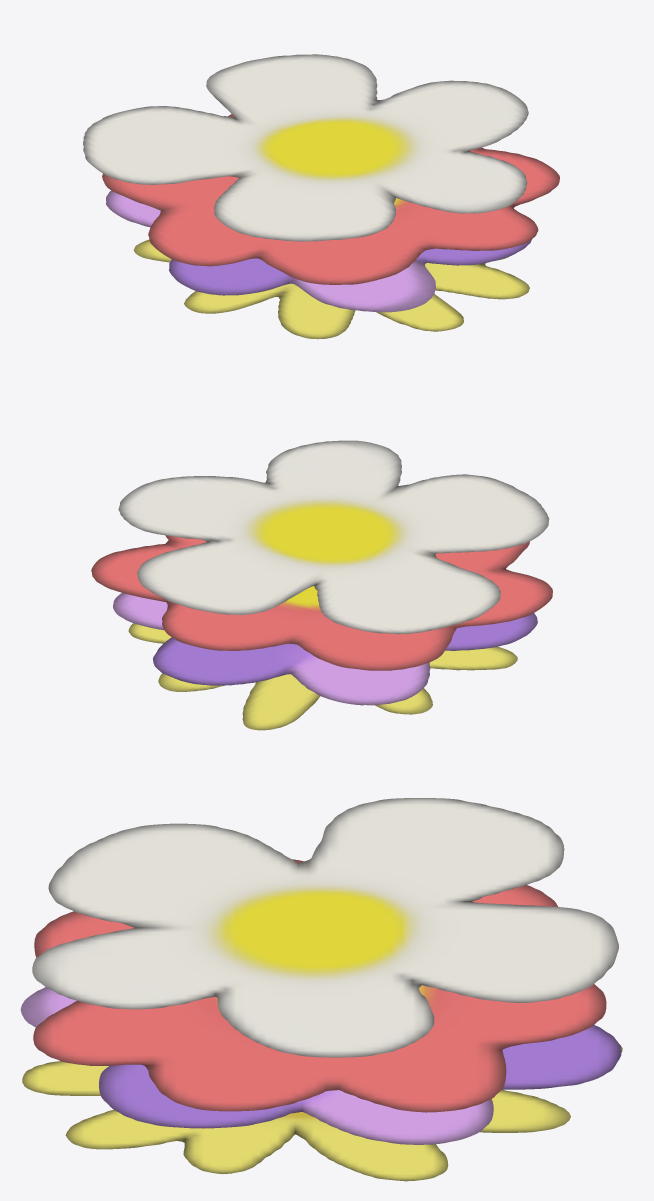
Rendered from flowers.fbx.
The picture shows the model from 3 angles, top to bottom: view 1: azimuth 30°, elevation 25°; view 2: azimuth 150°, elevation 25°; view 3: azimuth 270°, elevation 25°; orthographic projection. The views are drawn at different scales.
Visible parts, largest first — view 1: Flower1, Flower2, Flower3, Flower4; view 2: Flower1, Flower2, Flower3, Flower4; view 3: Flower1, Flower2, Flower3, Flower4.
Boxes of the visible parts, <box> form: Flower1: <box>83,54,528,241</box>; Flower2: <box>102,114,559,284</box>; Flower3: <box>106,190,531,312</box>; Flower4: <box>133,239,529,339</box>; Flower1: <box>118,440,549,634</box>; Flower2: <box>91,535,552,670</box>; Flower3: <box>113,592,537,705</box>; Flower4: <box>128,623,517,730</box>; Flower1: <box>32,798,618,1057</box>; Flower2: <box>33,859,606,1112</box>; Flower3: <box>20,987,621,1144</box>; Flower4: <box>22,1044,622,1181</box>.
Size of the model in its own units: 1.3 by 0.328 by 1.3.
1 material, 1 textured.
